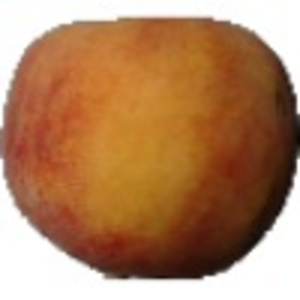pêssego: (1, 13, 300, 283)
